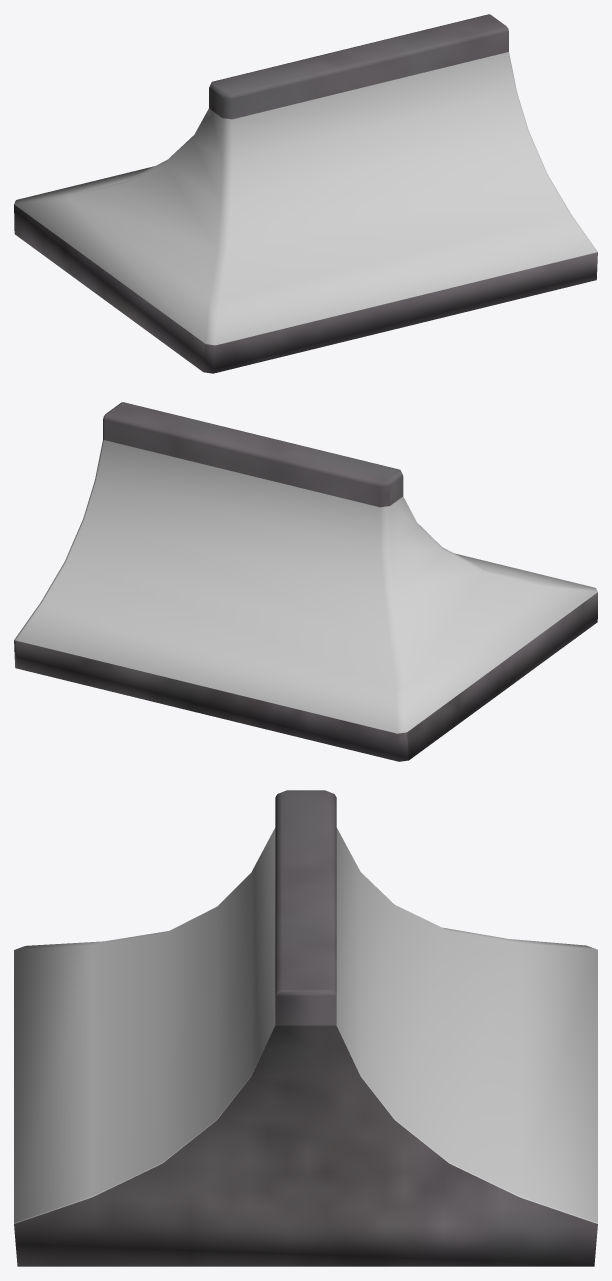
Rendered from SP_Entrance01_Roof02.fbx.
3 renders of one model, top to bottom at view 1: azimuth 30°, elevation 25°; view 2: azimuth 150°, elevation 25°; view 3: azimuth 270°, elevation 25°, orthographic. The views are drawn at different scales.
Visible parts, largest first — view 1: SP_Entrance01_ Roof02; view 2: SP_Entrance01_ Roof02; view 3: SP_Entrance01_ Roof02.
Boxes of the visible parts, x1,y1,x2,y2 form: SP_Entrance01_ Roof02: (14,14,597,373); SP_Entrance01_ Roof02: (14,402,597,761); SP_Entrance01_ Roof02: (14,790,597,1266).
Size of the model in its own units: 9.3 by 4.29 by 8.23.
